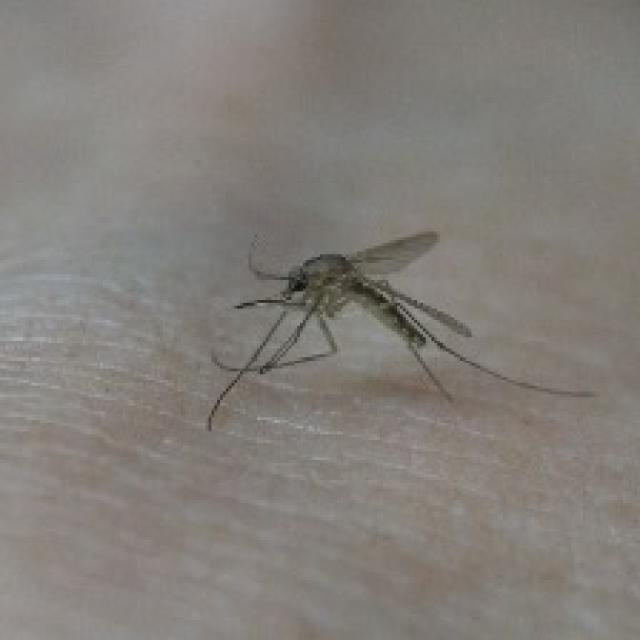culex: (203, 226, 594, 431)
